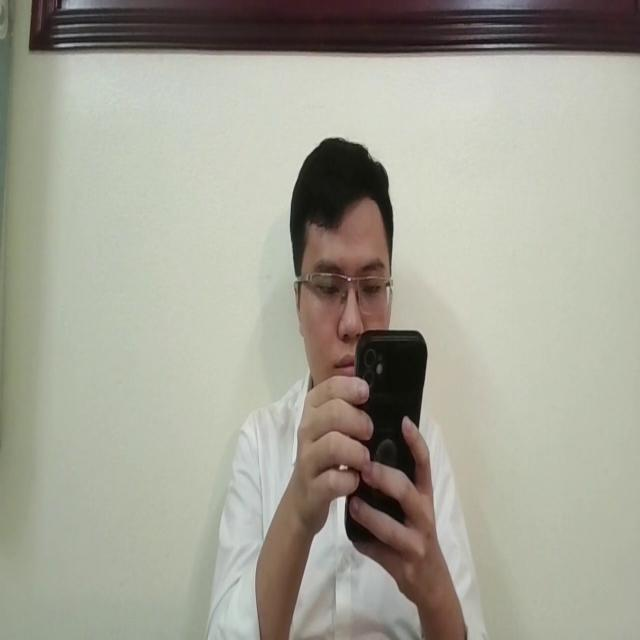phone: (343, 327, 427, 522)
student: (197, 135, 491, 640)
